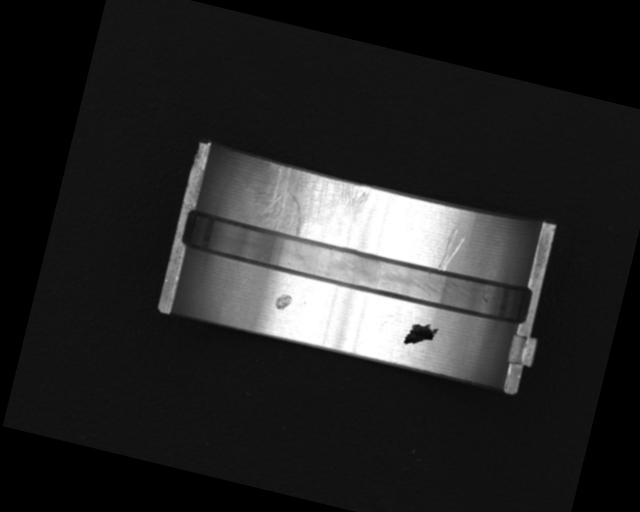blot: (402, 318, 439, 351)
bruise: (272, 291, 293, 313)
gap: (178, 206, 535, 331)
nick: (437, 224, 466, 273)
scratch: (243, 158, 371, 250)
